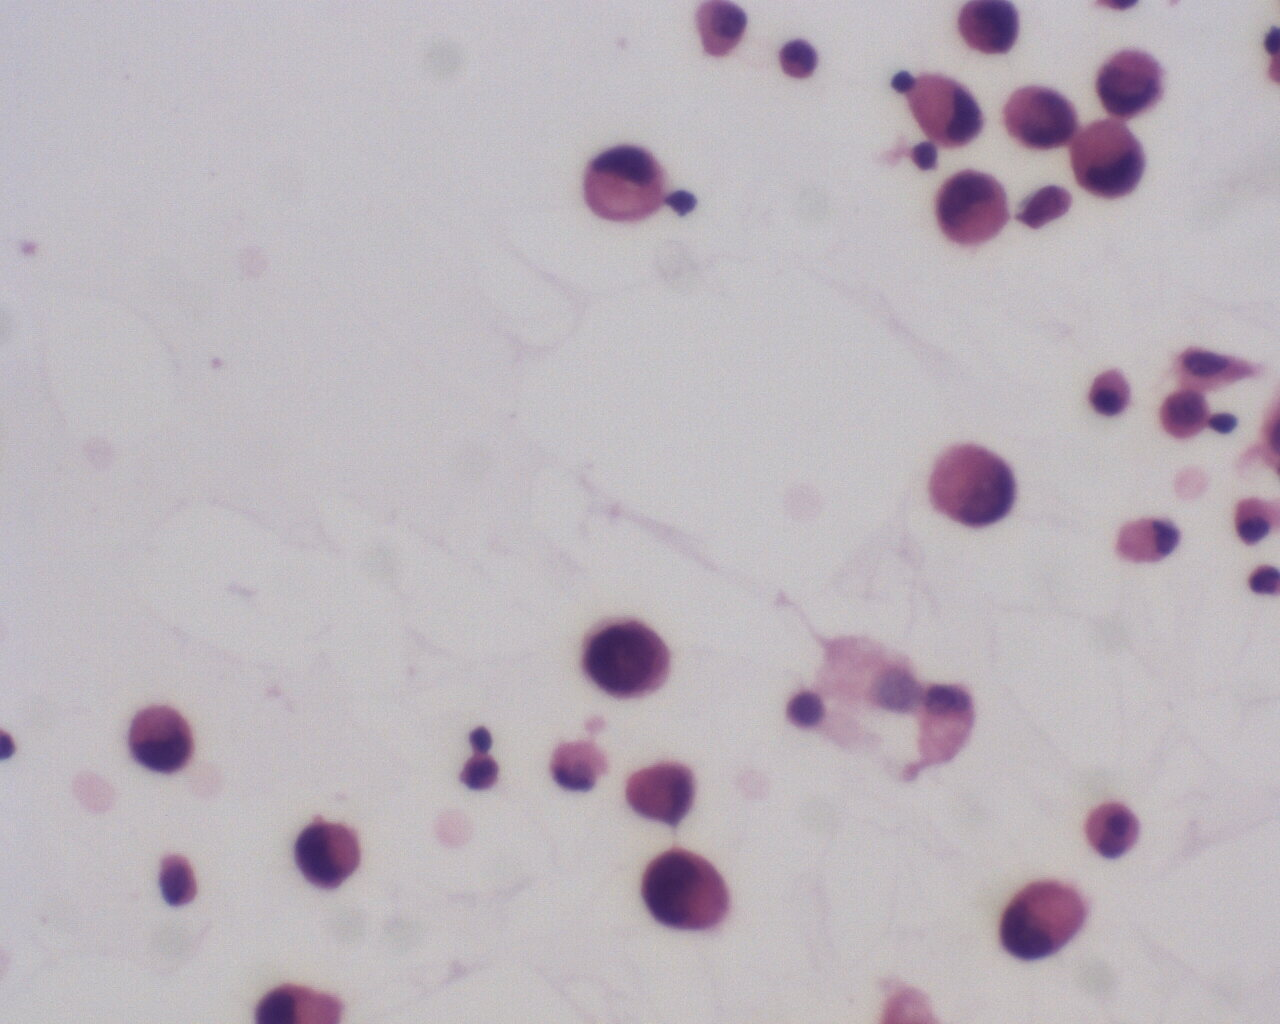ab: (637, 846, 737, 938), (927, 438, 1021, 532), (994, 872, 1089, 965), (579, 615, 677, 704), (1070, 118, 1153, 206), (931, 168, 1016, 252), (289, 816, 368, 897), (1087, 45, 1170, 119), (1000, 78, 1076, 152), (949, 1, 1023, 60)
histo: (581, 144, 669, 224)
